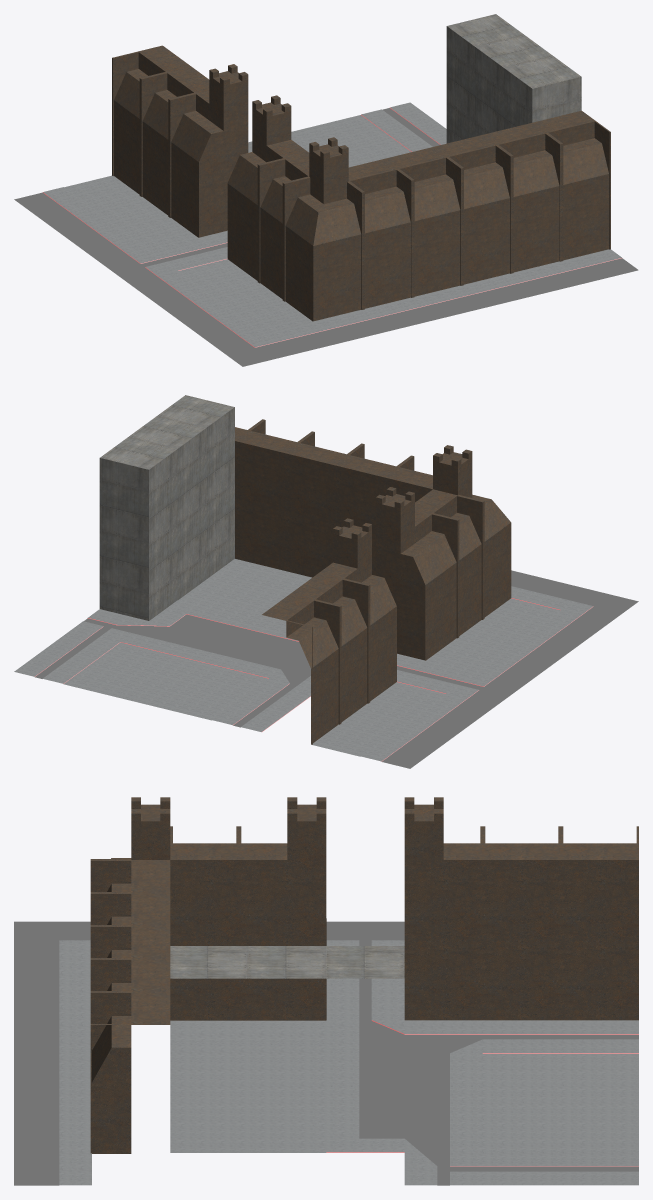
The model's file is Section9.gltf.
3 views of the same model, one above another, from view 1: azimuth 30°, elevation 25°; view 2: azimuth 150°, elevation 25°; view 3: azimuth 270°, elevation 25° (orthographic). The views are drawn at different scales.
Visible parts, largest first — view 1: Section9; view 2: Section9; view 3: Section9.
Boxes of the visible parts, x1,y1,x2,y2 form: Section9: [14, 14, 638, 366]; Section9: [14, 395, 638, 768]; Section9: [14, 797, 638, 1185].
Size of the model in its own units: 128 by 46.8 by 128.
Materials: 6 (4 with a texture image).
